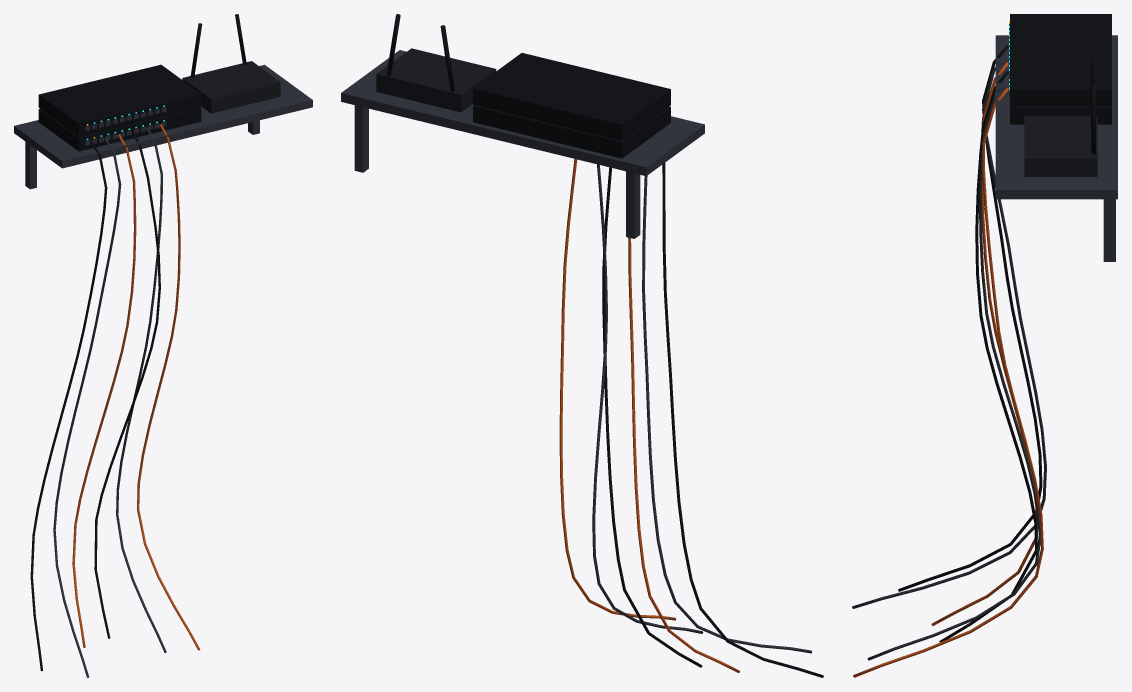
File: Tech_NetworkShelf.glb
3 renders of one model, left to right at view 1: azimuth 30°, elevation 25°; view 2: azimuth 150°, elevation 25°; view 3: azimuth 270°, elevation 25°, orthographic. The views are drawn at different scales.
Visible parts, largest first — view 1: Tech_NetworkShelf; view 2: Tech_NetworkShelf; view 3: Tech_NetworkShelf.
Boxes of the visible parts, x1,y1,x2,y2 form: Tech_NetworkShelf: (14,14,312,677); Tech_NetworkShelf: (341,14,823,677); Tech_NetworkShelf: (852,14,1117,677).
Bounding box in the file's own units: 1.11 × 1.83 × 0.6532.
